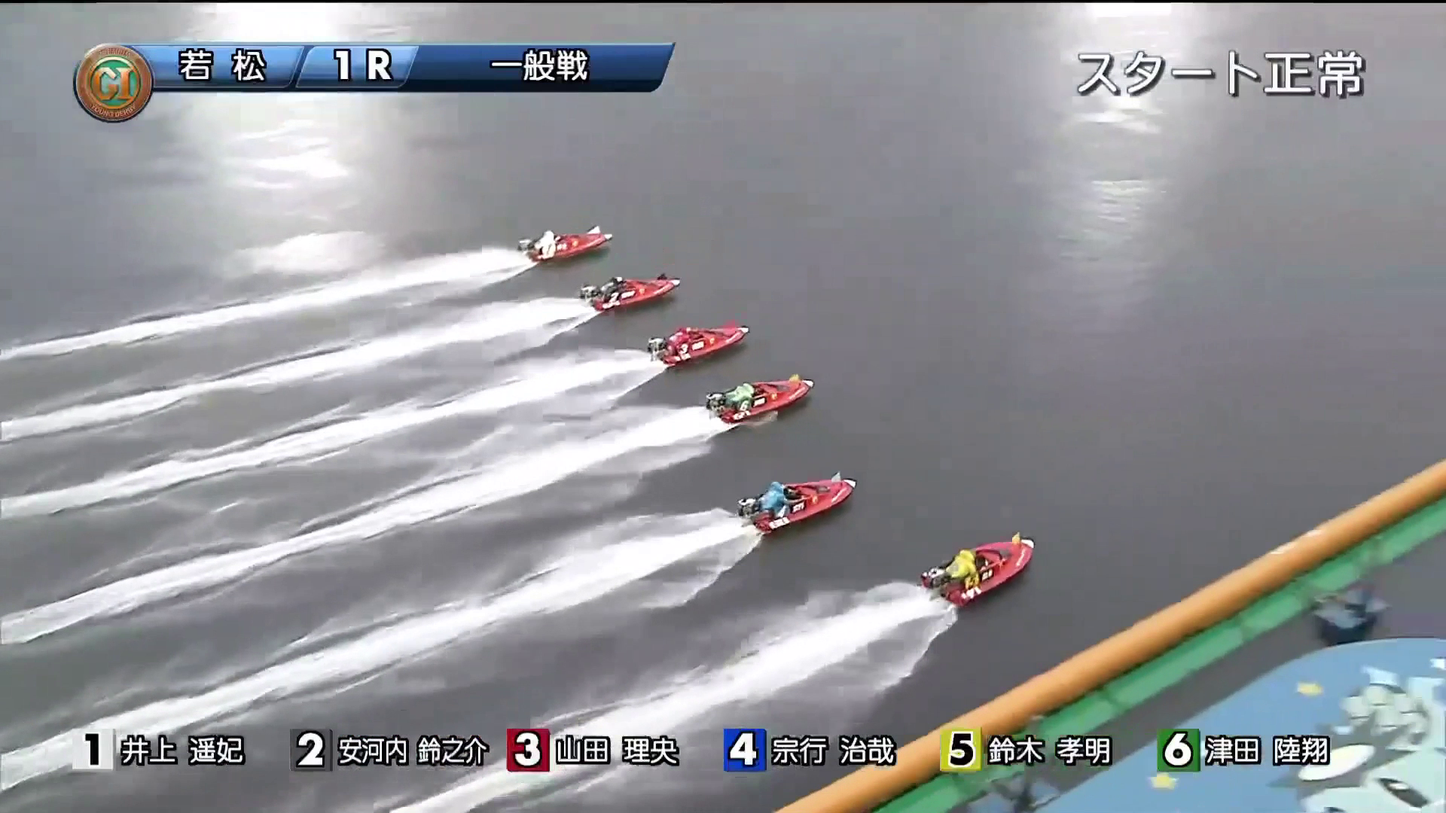１号艇: (521, 226, 597, 266)
２号艇: (575, 270, 668, 308)
３号艇: (638, 319, 740, 360)
４号艇: (700, 383, 805, 426)
５号艇: (734, 476, 854, 531)
６号艇: (904, 544, 1023, 600)
